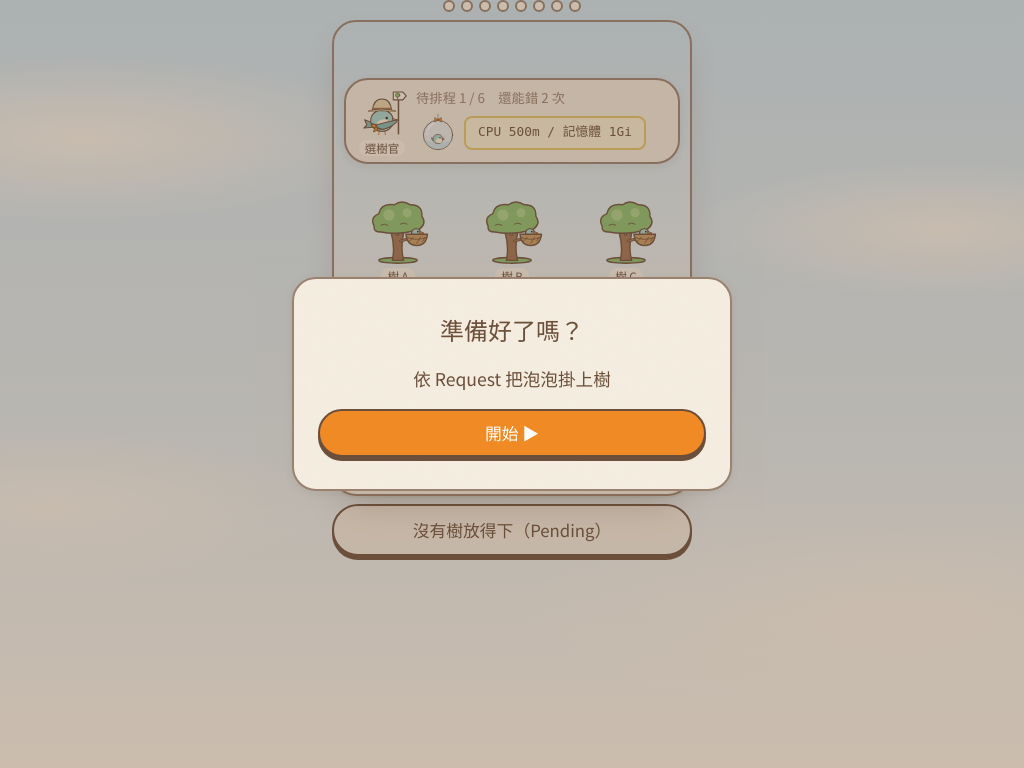
Day25Game › Request 塞不下會報 Insufficient，錯超過 2 次判失敗
Step 1. Click the button with test id "shell-start" → x=512, y=433, box left=318, top=409, right=706, bottom=457
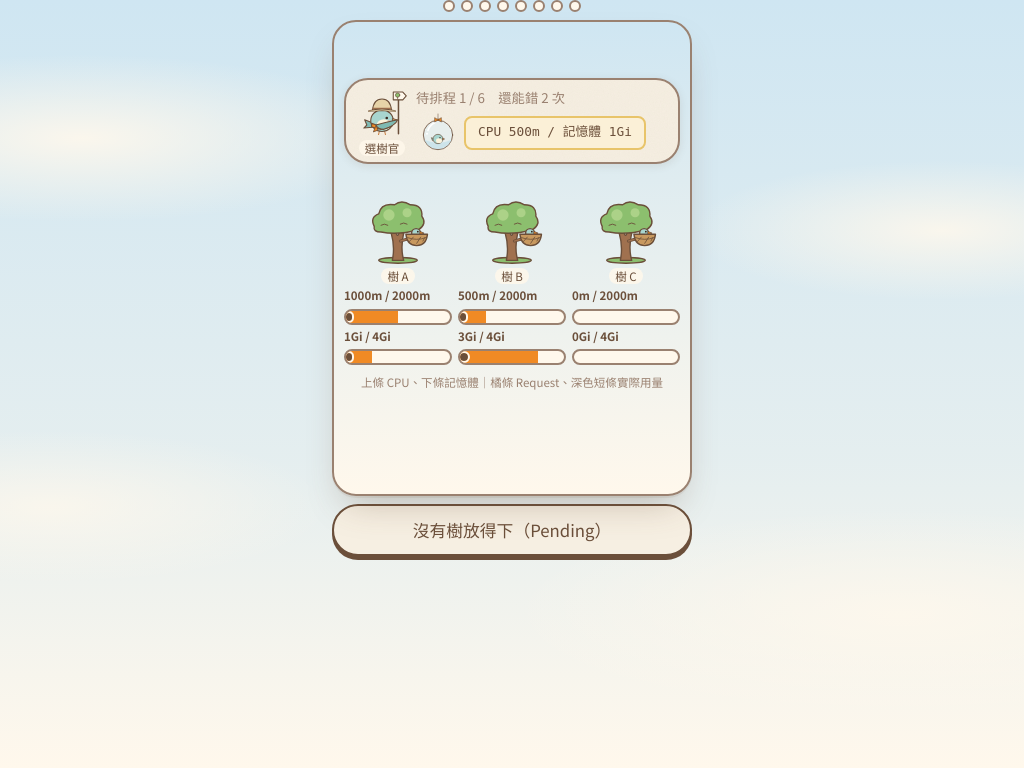
Step 2. Click the button "樹 C" → x=626, y=241, box left=592, top=198, right=660, bottom=284
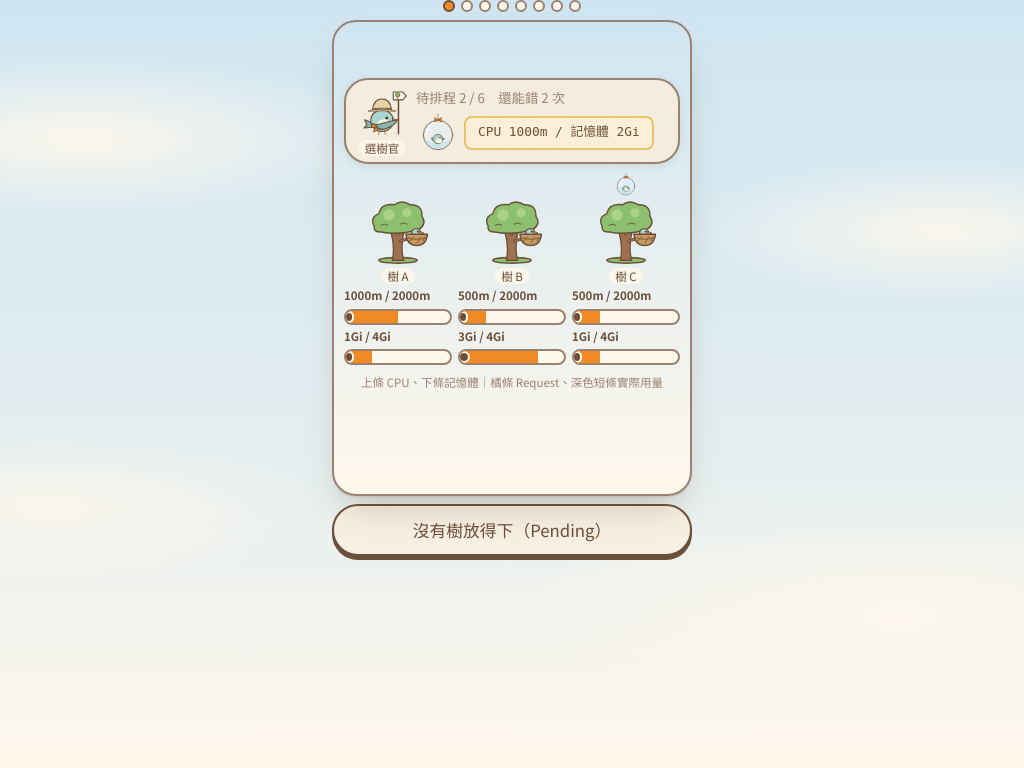
Step 3. Click the button "樹 B" → x=512, y=241, box left=478, top=198, right=546, bottom=284
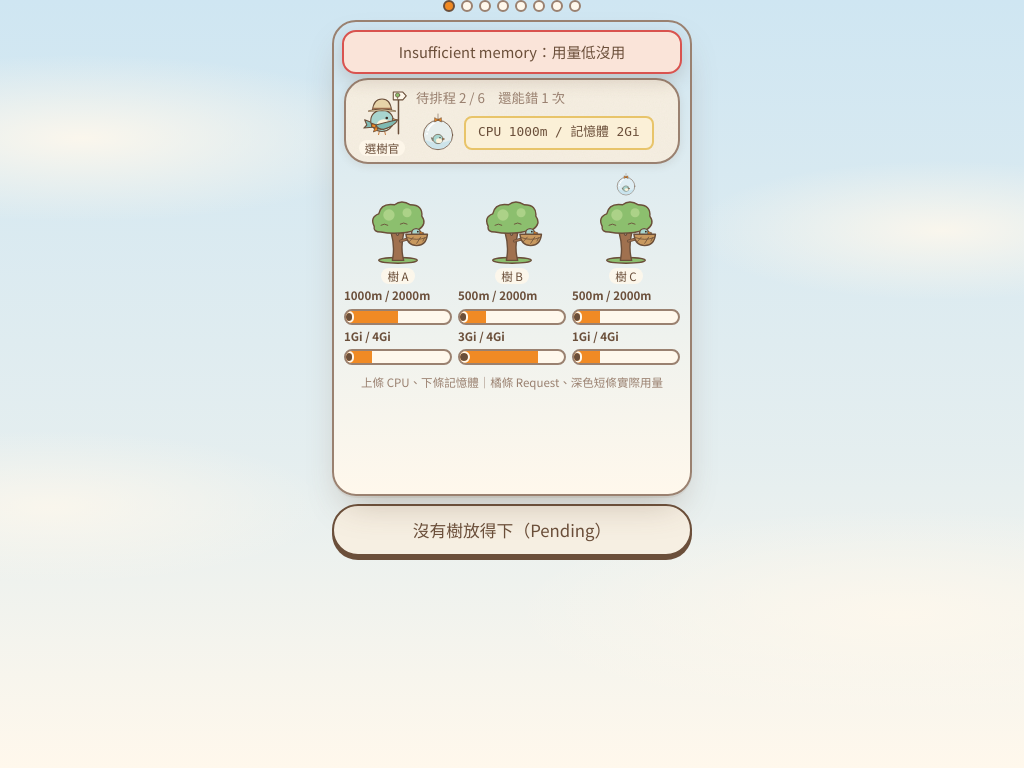
Result: the message "Insufficient memory：用量低沒用" is shown at left=342, top=30, right=682, bottom=74
Step 4. Click the button with test id "pending-btn" → x=512, y=530, box left=332, top=504, right=692, bottom=556
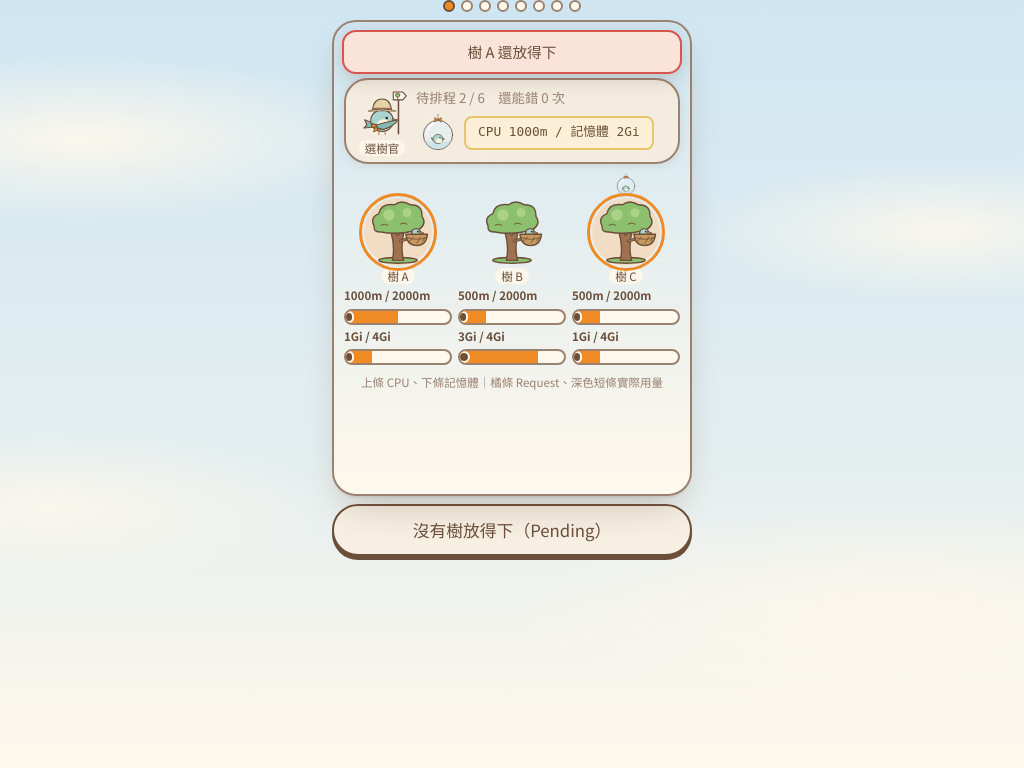
Step 5. Click the button "樹 B" → x=512, y=241, box left=478, top=198, right=546, bottom=284
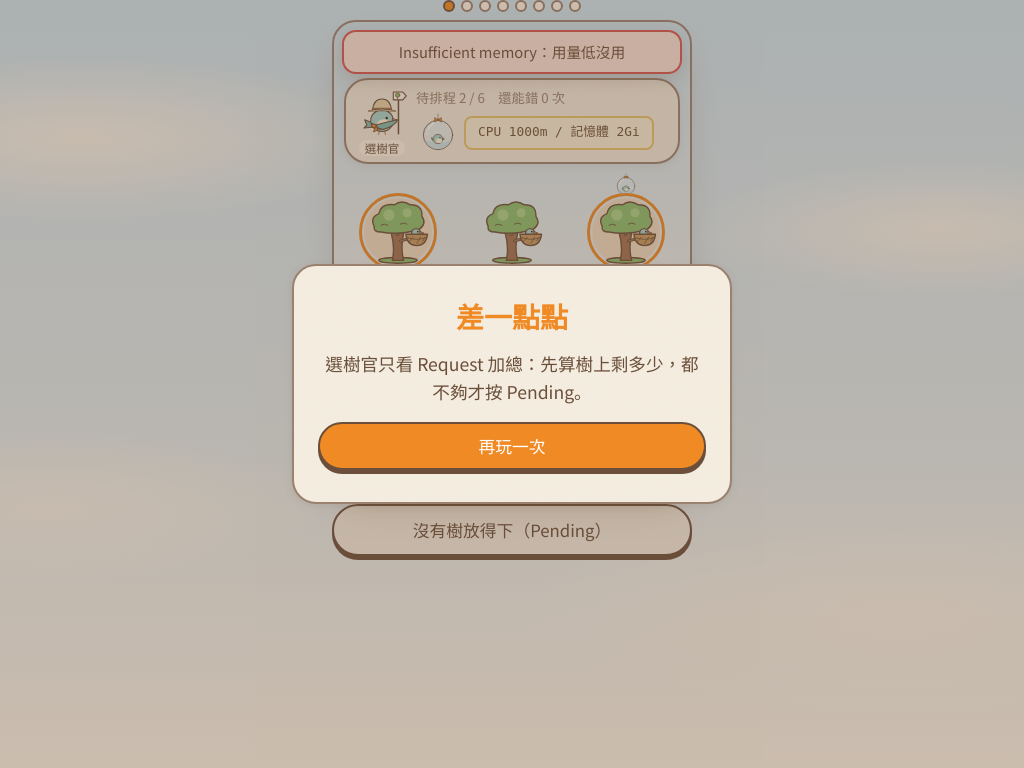
Result: the button with test id "shell-retry" is shown at left=318, top=422, right=706, bottom=470
